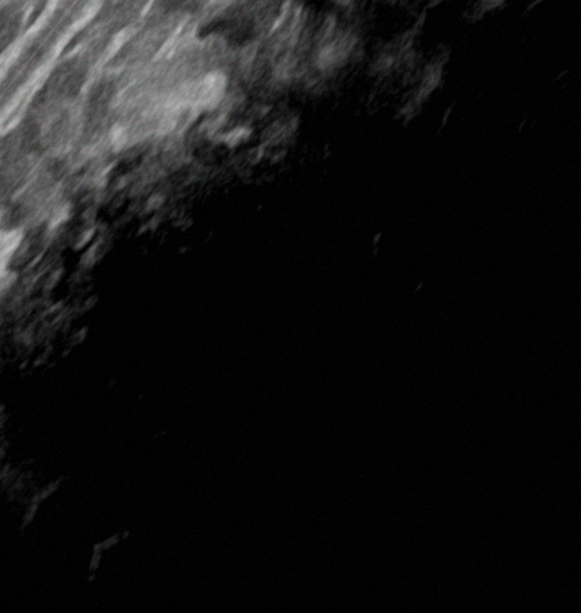Normal: (0, 0, 542, 610)
